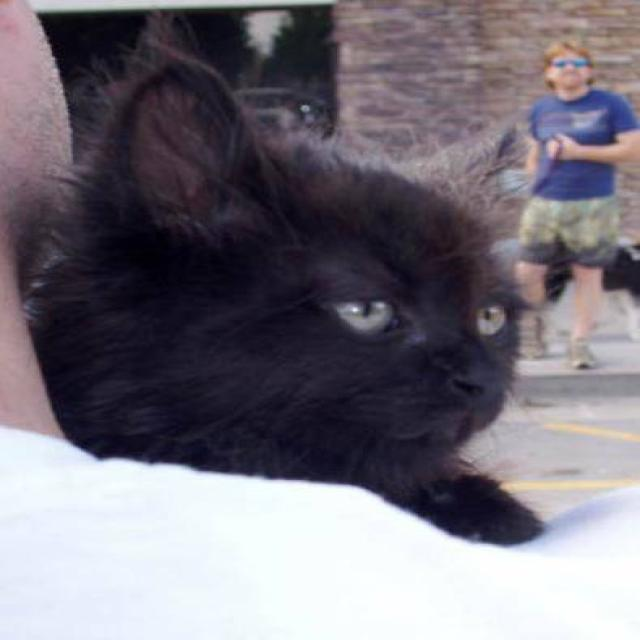cat: (18, 8, 548, 546)
